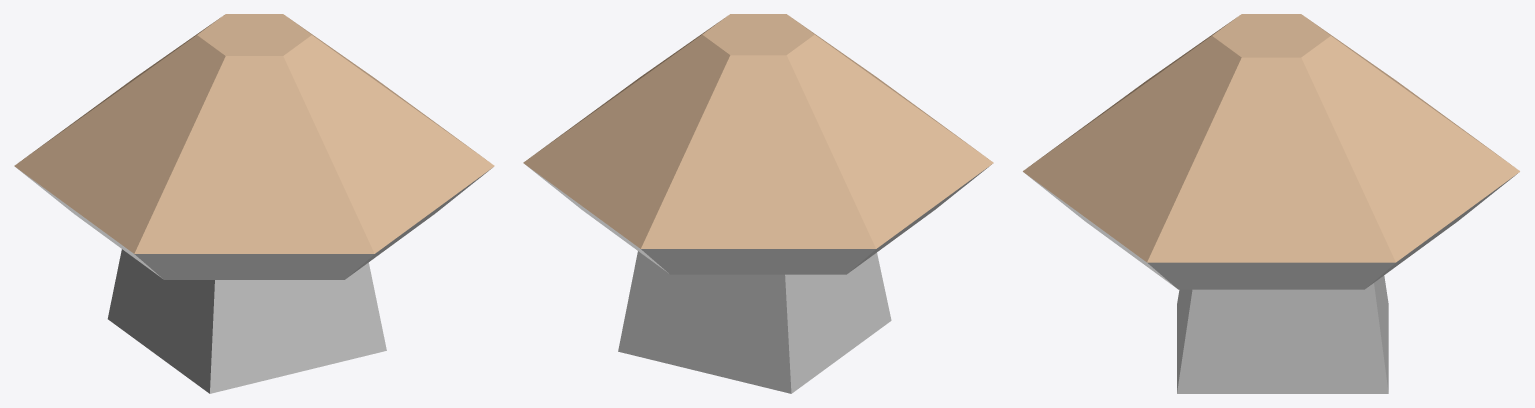
Rendered from mushroom_tan.glb.
3 renders of one model, left to right at view 1: azimuth 30°, elevation 25°; view 2: azimuth 150°, elevation 25°; view 3: azimuth 270°, elevation 25°, orthographic. The views are drawn at different scales.
Visible parts, largest first — view 1: mushroom_tan; view 2: mushroom_tan; view 3: mushroom_tan.
Part boxes in pixels (<box>): mushroom_tan: <box>14,14,494,393</box>; mushroom_tan: <box>523,14,993,393</box>; mushroom_tan: <box>1023,14,1519,393</box>.
Size of the model in its own units: 0.1914 by 0.1539 by 0.221.
